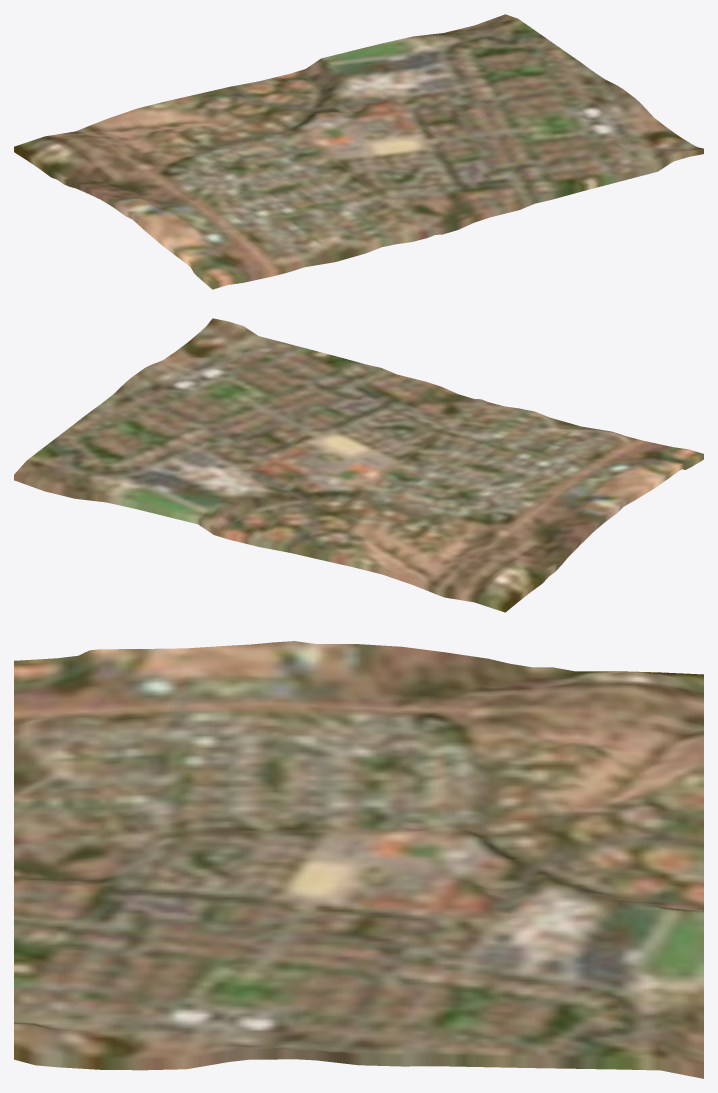
The model's file is terrain_r7_c0_lod2.glb.
The picture shows the model from 3 angles, top to bottom: view 1: azimuth 30°, elevation 25°; view 2: azimuth 150°, elevation 25°; view 3: azimuth 270°, elevation 25°; orthographic projection. The views are drawn at different scales.
Visible parts, largest first — view 1: terrain_r7_c0_lod2; view 2: terrain_r7_c0_lod2; view 3: terrain_r7_c0_lod2.
Boxes of the visible parts, bbox=[...] form: terrain_r7_c0_lod2: bbox=[14, 14, 703, 289]; terrain_r7_c0_lod2: bbox=[14, 318, 703, 612]; terrain_r7_c0_lod2: bbox=[14, 641, 703, 1078].
Size of the model in its own units: 1125 by 65.17 by 787.
1 material, 1 textured.
